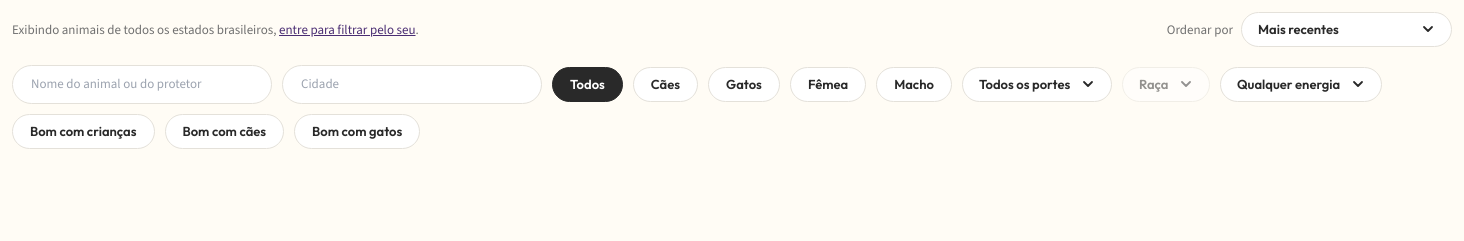
it: busca na API › limpar filtros apaga a busca e os filtros e traz todos de novo
The image size is (1464, 241).
Type "mel" into the search field named "Buscar por nome".
click(142, 84); type("mel")  # box [12, 65, 272, 104]
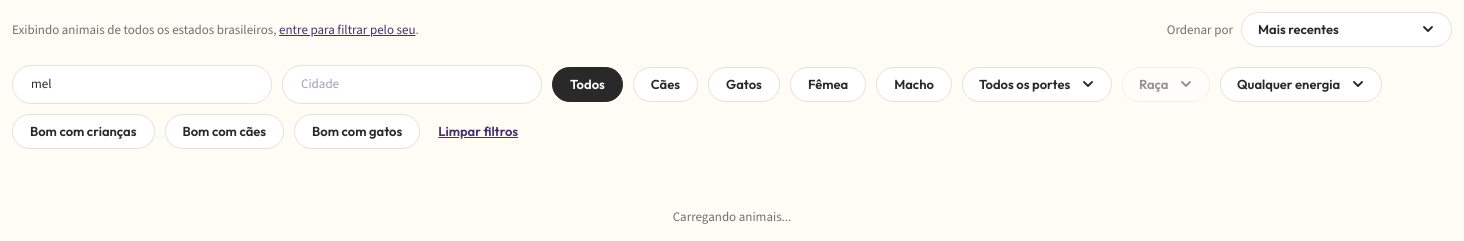
Click the button "Gatos".
click(744, 84)  # box [708, 67, 780, 102]
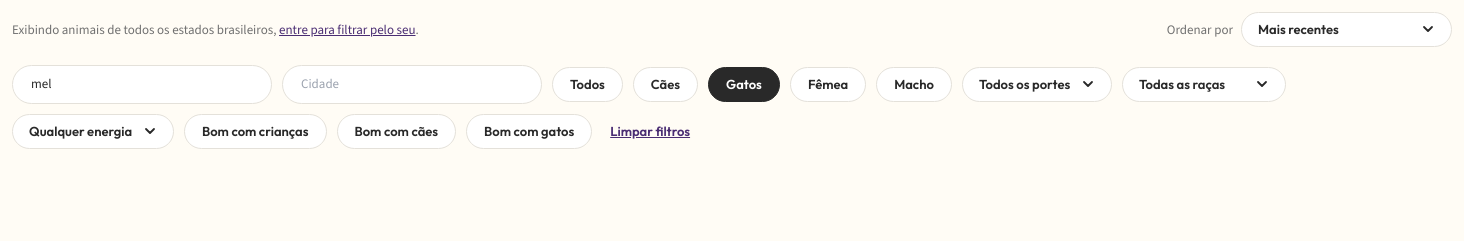
Click the button "Limpar filtros".
click(650, 131)  # box [602, 123, 698, 140]
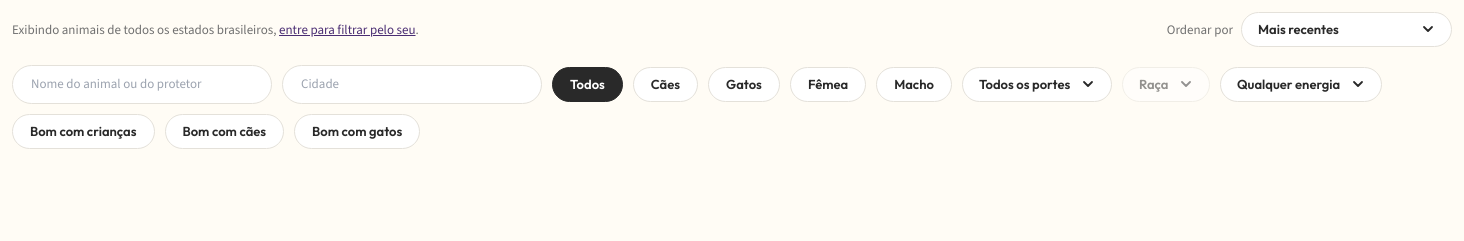
Check: the search field named "Buscar por nome" is empty, box [12, 65, 272, 104]
Check: the button "Limpar filtros" is gone
